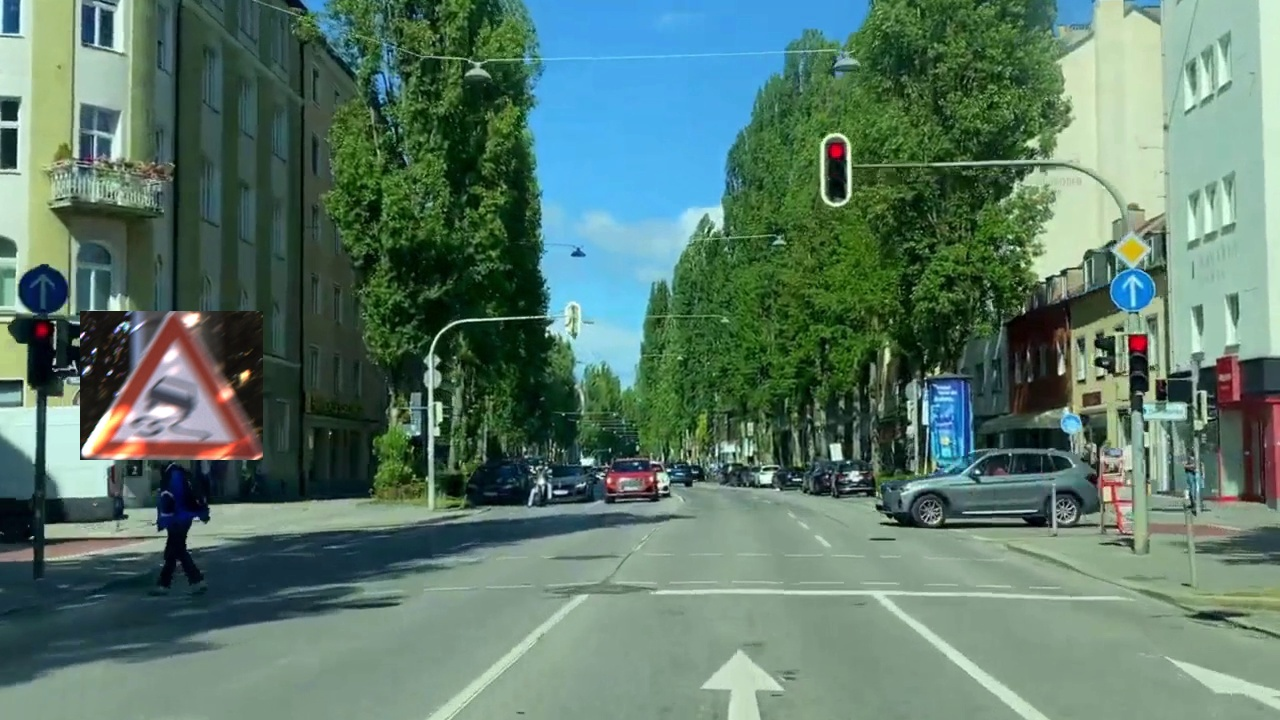Slippery: (80, 311, 263, 460)
